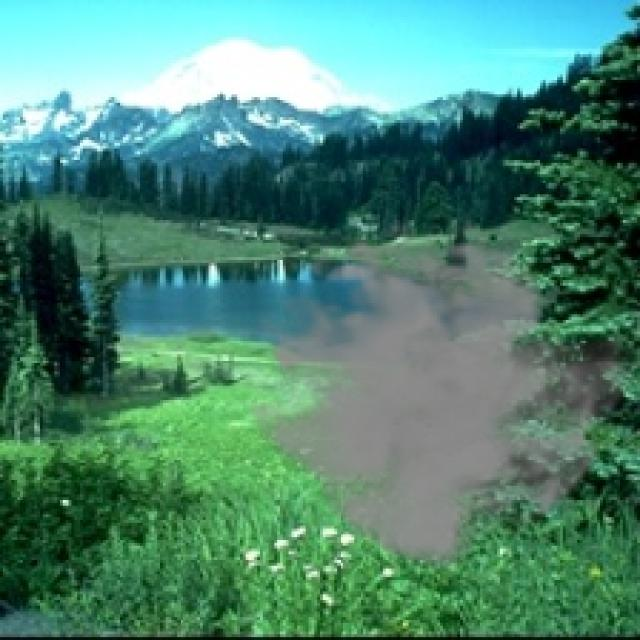smoke: (232, 217, 637, 577)
